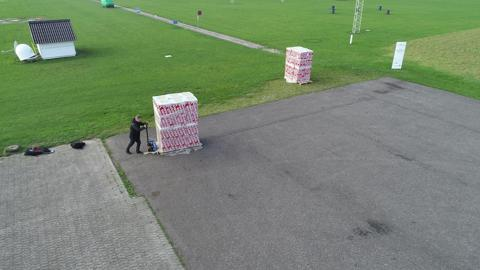RockwoolPallet: (153, 96, 200, 146)
